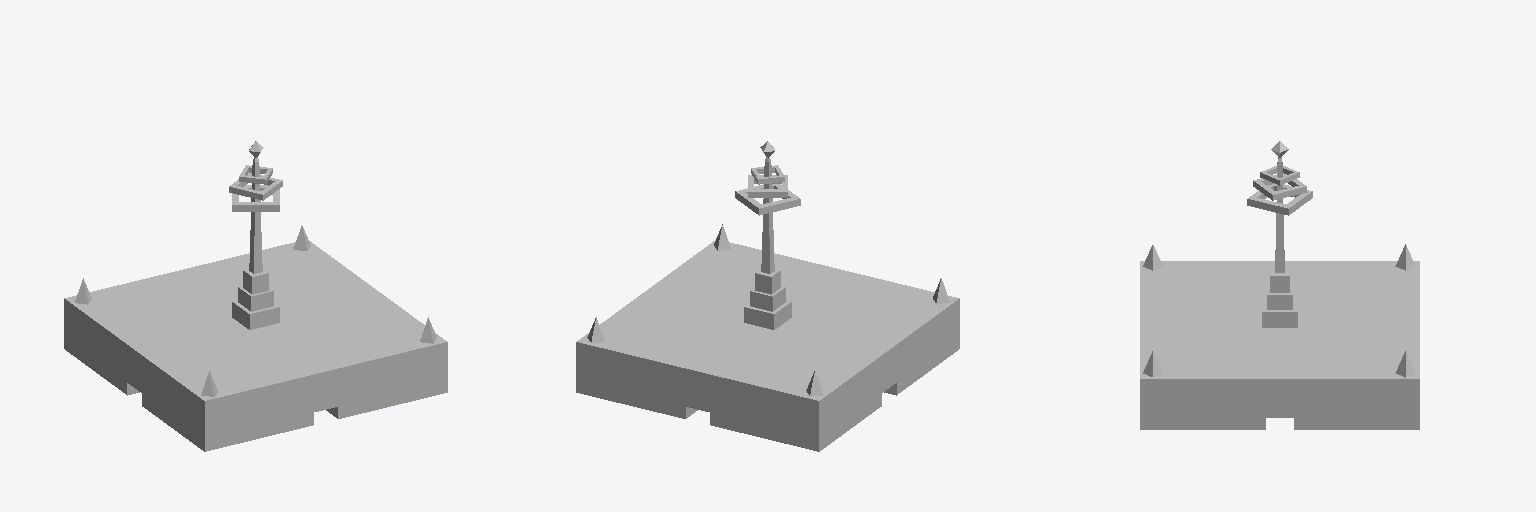
Rendered from puzzlePiece_beacon.obj.
The picture shows the model from 3 angles: view 1: azimuth 30°, elevation 25°; view 2: azimuth 150°, elevation 25°; view 3: azimuth 270°, elevation 25°; orthographic projection.
Visible parts, largest first — view 1: puzzlePiece_crossing:pCube1, pCube1, pPipe3, pPipe2; view 2: puzzlePiece_crossing:pCube1, pCube1, pPipe3, pPipe2; view 3: puzzlePiece_crossing:pCube1, pCube1, pPipe3, pPipe2.
Boxes of the visible parts, box(x1,y1,x2,y2) form: puzzlePiece_crossing:pCube1: box(64, 241, 447, 451); pCube1: box(232, 141, 279, 329); pPipe3: box(232, 185, 279, 211); pPipe2: box(229, 172, 282, 200); puzzlePiece_crossing:pCube1: box(576, 240, 959, 451); pCube1: box(744, 141, 791, 329); pPipe3: box(735, 184, 800, 215); pPipe2: box(748, 175, 787, 197); puzzlePiece_crossing:pCube1: box(1140, 261, 1419, 429); pCube1: box(1262, 141, 1297, 327); pPipe3: box(1247, 184, 1312, 215); pPipe2: box(1253, 173, 1306, 200).
Bounding box in the file's own units: 0.5 × 0.4523 × 0.5.